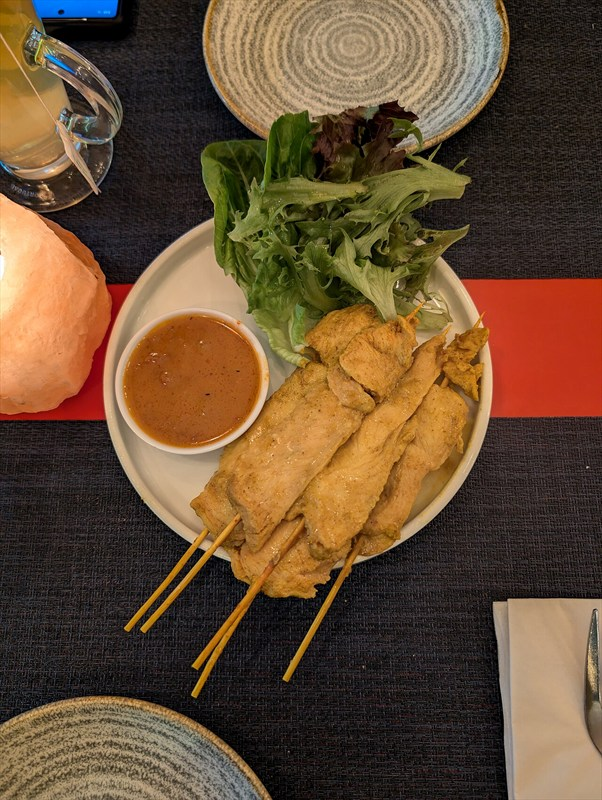Sate Ayam: (17, 85, 499, 641)
